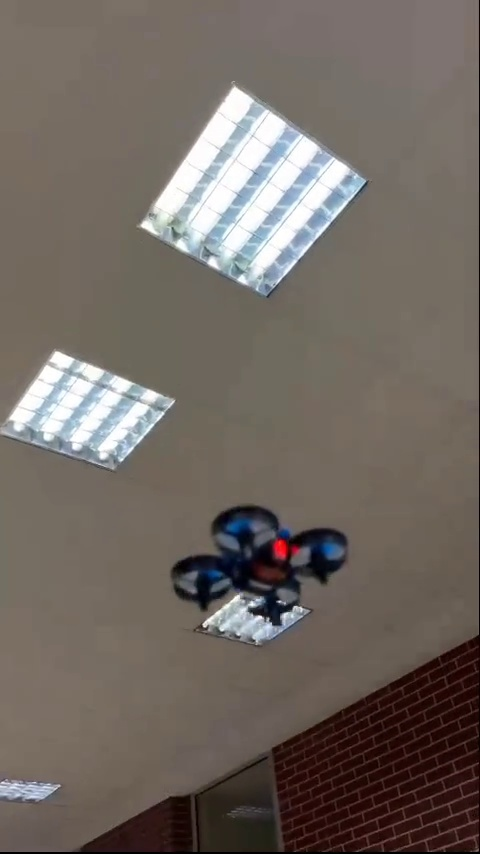drone: (167, 501, 350, 628)
